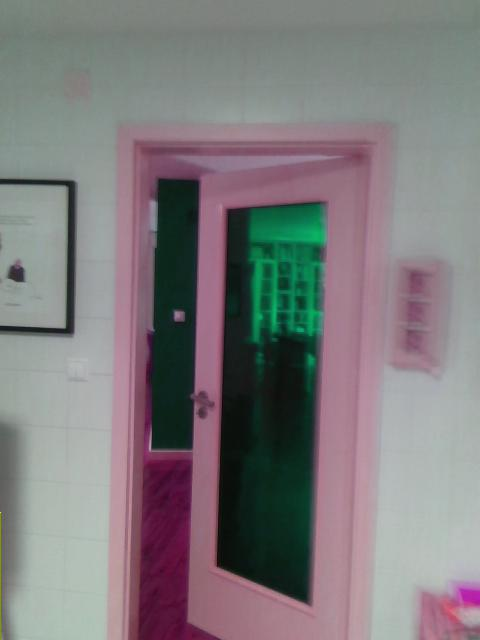semi_door: (107, 119, 393, 639)
